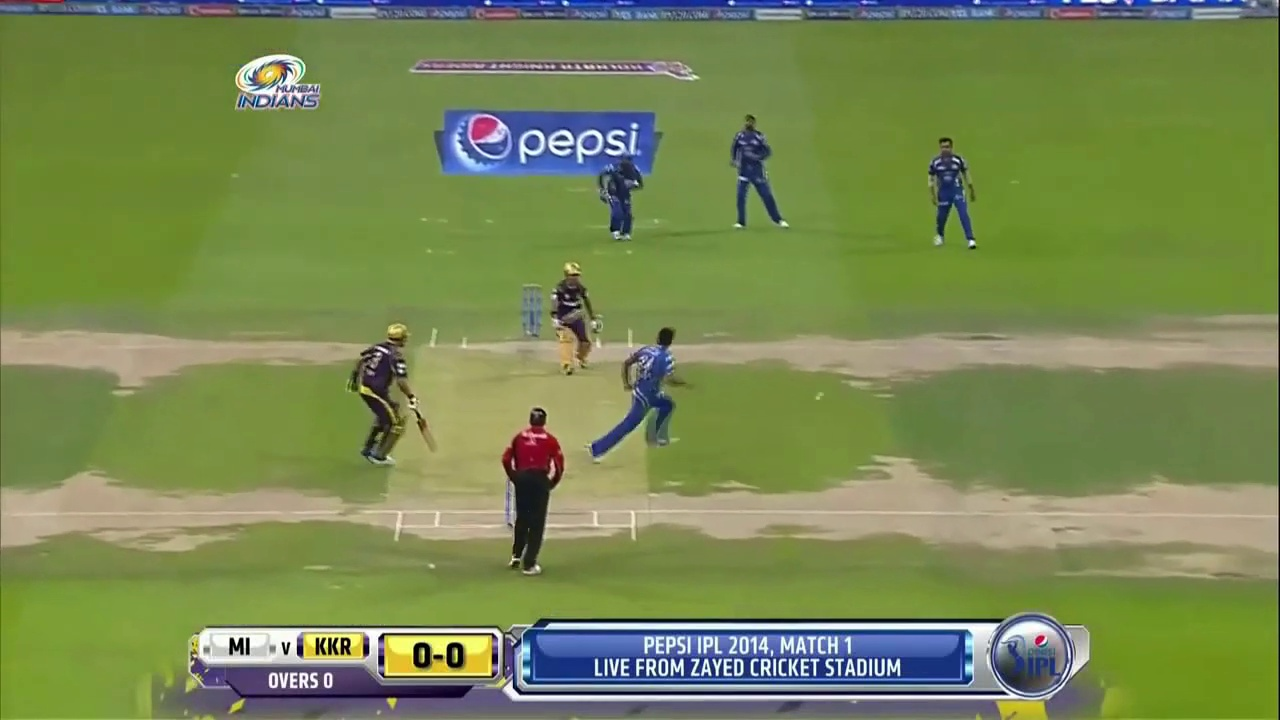bat: (412, 411, 438, 453)
